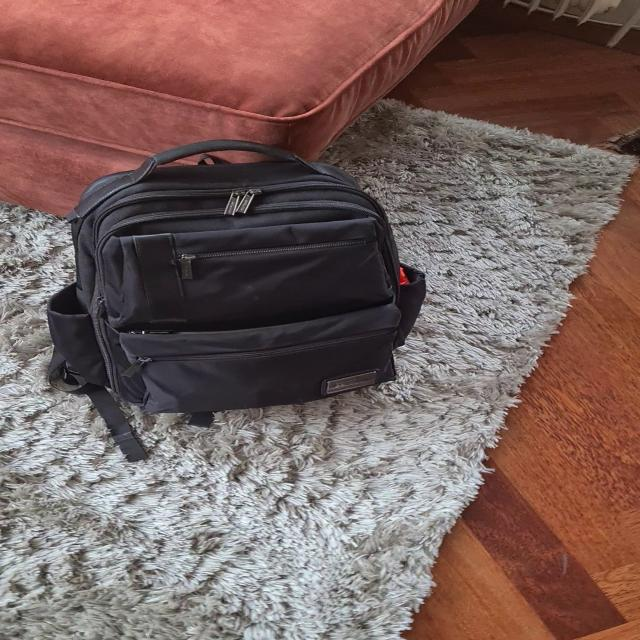backpack: (36, 130, 432, 438)
